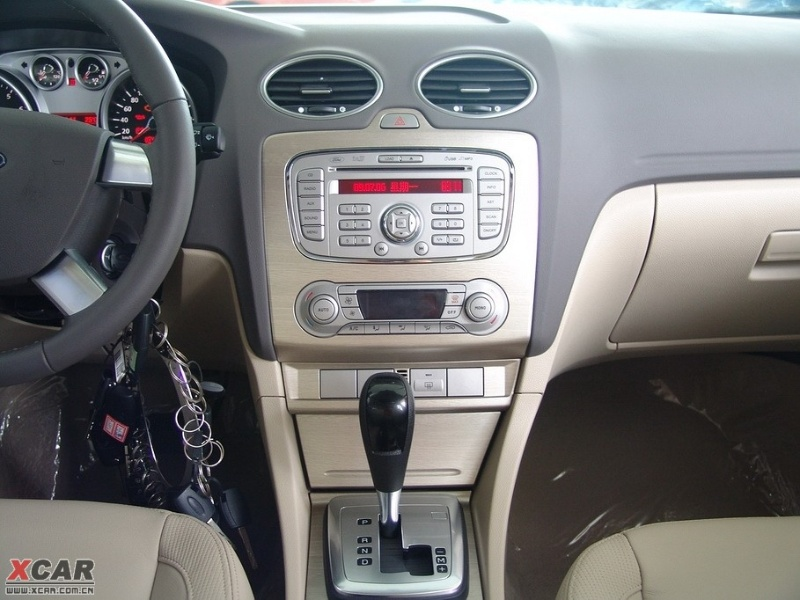control_center: (255, 36, 543, 370)
gear_lever: (339, 366, 496, 600)
odometer: (2, 33, 241, 147)
steering_wheel: (1, 17, 251, 352)
